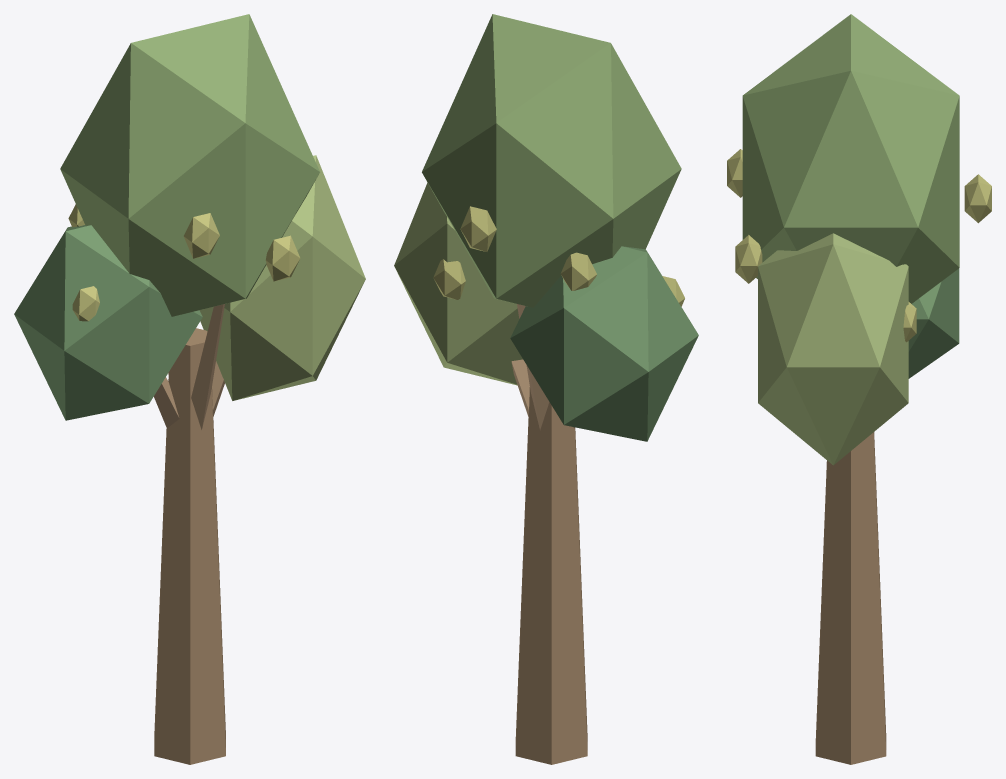
3 renders of one model, left to right at view 1: azimuth 30°, elevation 25°; view 2: azimuth 150°, elevation 25°; view 3: azimuth 270°, elevation 25°, orthographic.
Parts seen in each view (by area): view 1: Body; view 2: Body; view 3: Body.
Boxes of the visible parts, bbox=[...] form: Body: bbox=[14, 14, 365, 764]; Body: bbox=[394, 14, 698, 764]; Body: bbox=[727, 14, 991, 764].
Size of the model in its own units: 1.79 by 4.39 by 1.49.
